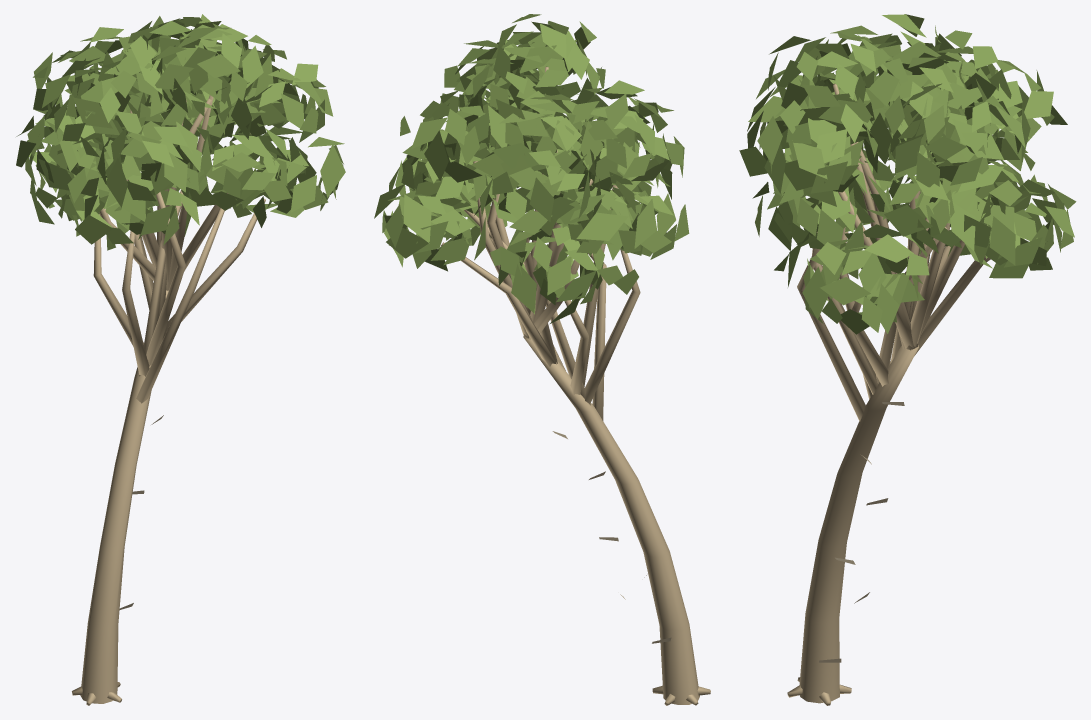
File: birch-leaning.glb
3 views of the same model, side by side, from view 1: azimuth 30°, elevation 25°; view 2: azimuth 150°, elevation 25°; view 3: azimuth 270°, elevation 25° (orthographic). The views are drawn at different scales.
Parts seen in each view (by area): view 1: tree_birch-leaning_LOD0; view 2: tree_birch-leaning_LOD0; view 3: tree_birch-leaning_LOD0.
Boxes of the visible parts, x1,y1,x2,y2 form: tree_birch-leaning_LOD0: [16, 14, 345, 705]; tree_birch-leaning_LOD0: [374, 14, 710, 705]; tree_birch-leaning_LOD0: [739, 14, 1076, 705].
Bounding box in the file's own units: 5.18 × 10.8 × 4.52.
